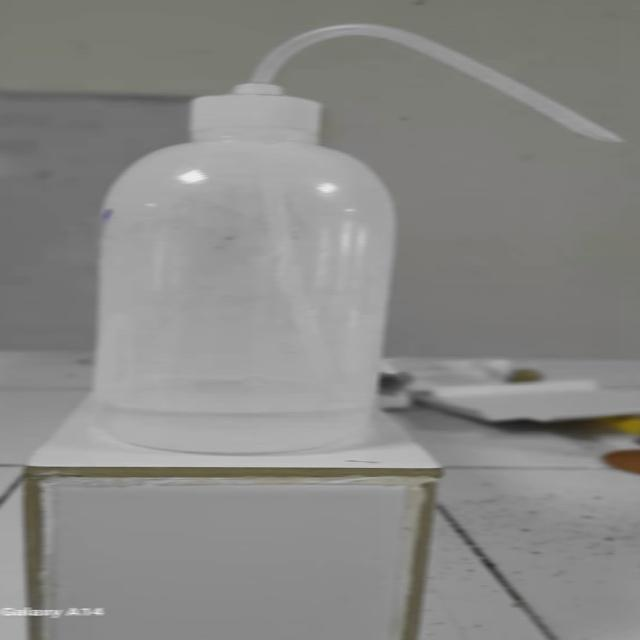Washing Bottle: (74, 8, 618, 450)
